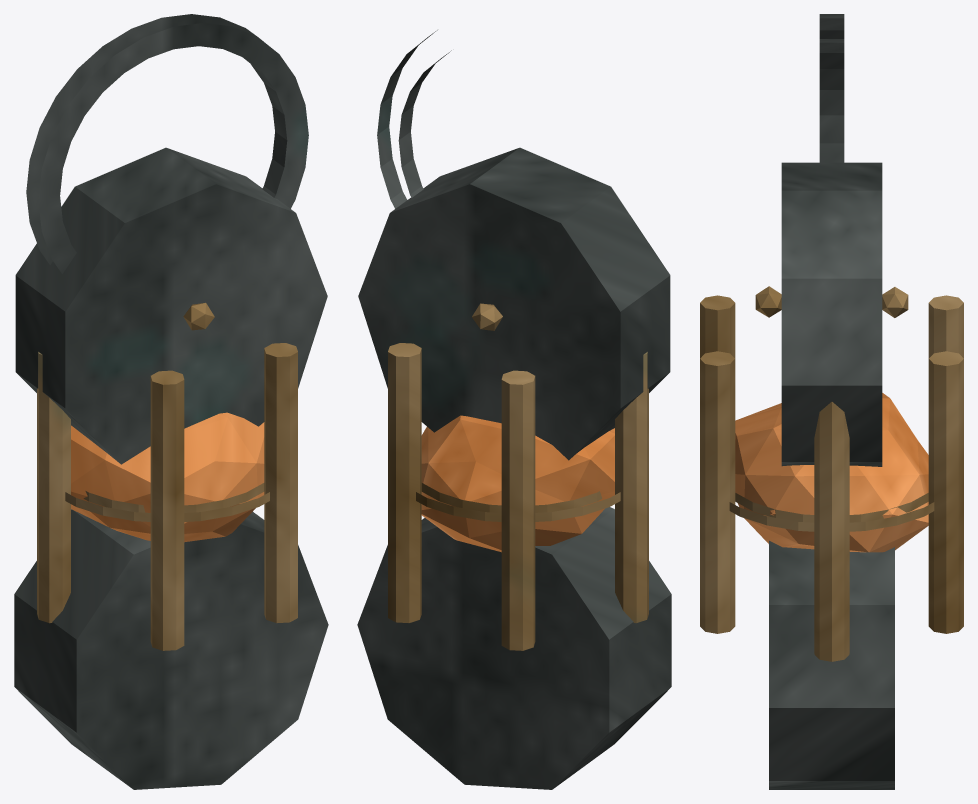
Rendered from 0923_lantern_23.glb.
The picture shows the model from 3 angles, left to right: view 1: azimuth 30°, elevation 25°; view 2: azimuth 150°, elevation 25°; view 3: azimuth 270°, elevation 25°; orthographic projection.
Visible parts, largest first — view 1: iron, brass, amber; view 2: iron, brass, amber; view 3: iron, brass, amber.
Boxes of the visible parts, x1,y1,x2,y2 form: iron: [14, 14, 328, 789]; brass: [37, 302, 297, 650]; amber: [71, 412, 264, 542]; iron: [357, 30, 671, 789]; brass: [388, 303, 648, 650]; amber: [421, 415, 614, 552]; iron: [769, 14, 894, 789]; brass: [700, 286, 963, 661]; amber: [735, 393, 928, 552].
Bounding box in the file's own units: 0.5 × 1.32 × 0.4197.
Materials: 3 (3 with a texture image).
